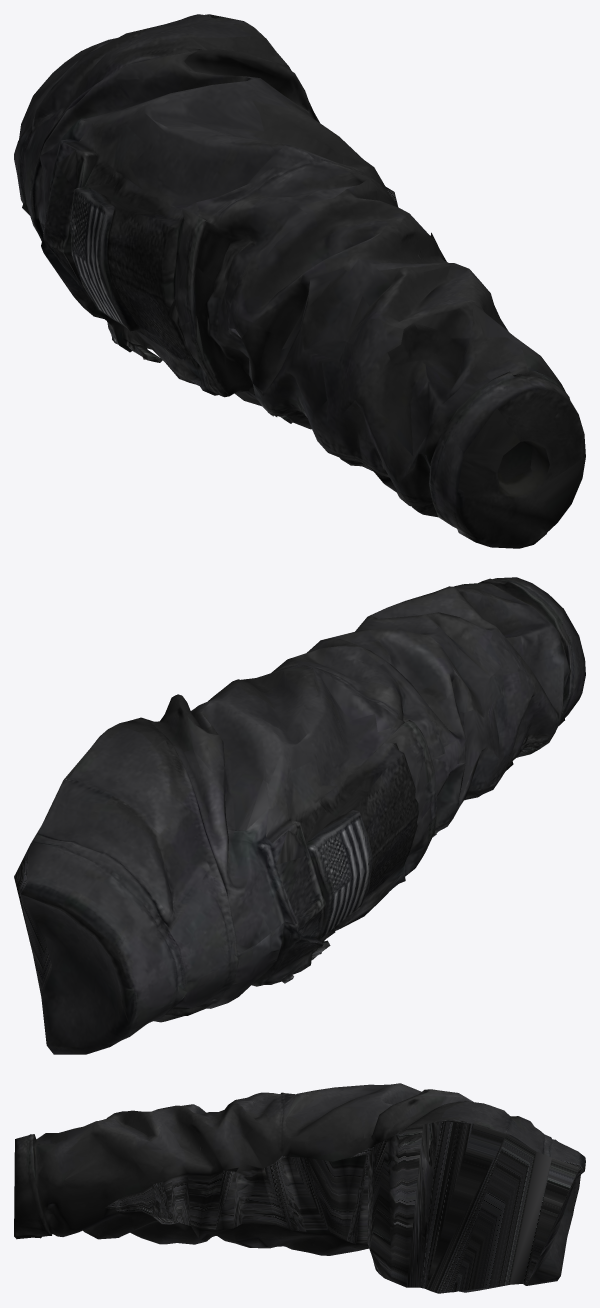
The model's file is p_upper_arm.fbx.
3 views of the same model, one above another, from view 1: azimuth 30°, elevation 25°; view 2: azimuth 150°, elevation 25°; view 3: azimuth 270°, elevation 25° (orthographic). The views are drawn at different scales.
Parts seen in each view (by area): view 1: Part; view 2: Part; view 3: Part.
Boxes of the visible parts, bbox=[...] form: Part: bbox=[14, 14, 585, 548]; Part: bbox=[14, 577, 585, 1054]; Part: bbox=[14, 1083, 585, 1293].
Bounding box in the file's own units: 8.16 × 10.43 × 29.97.
